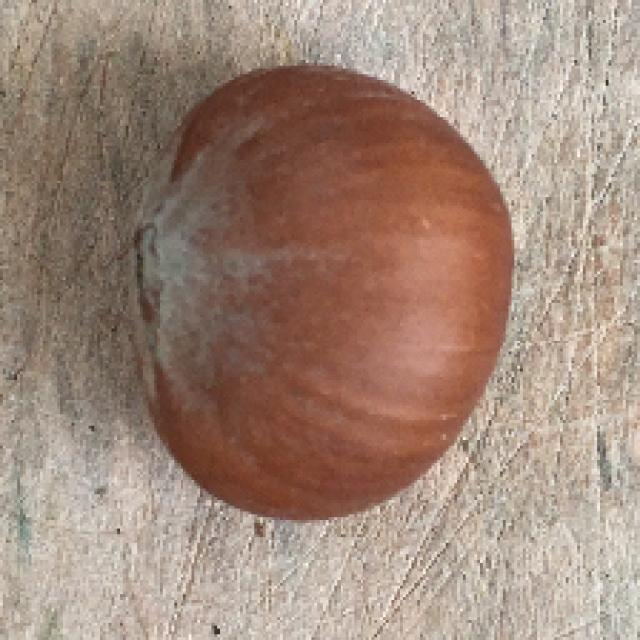qualityHazelnut: (121, 69, 524, 528)
